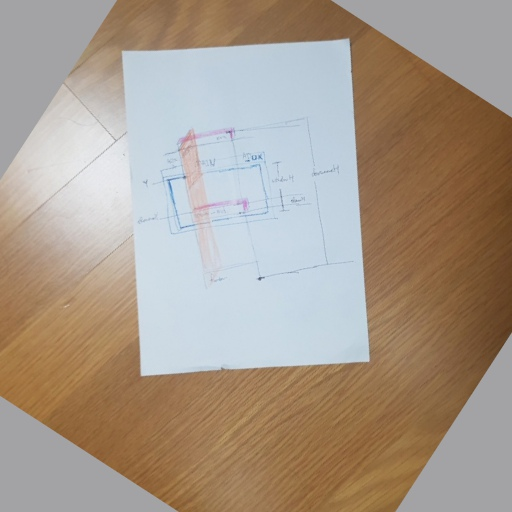Paper_2: (120, 35, 381, 385)
